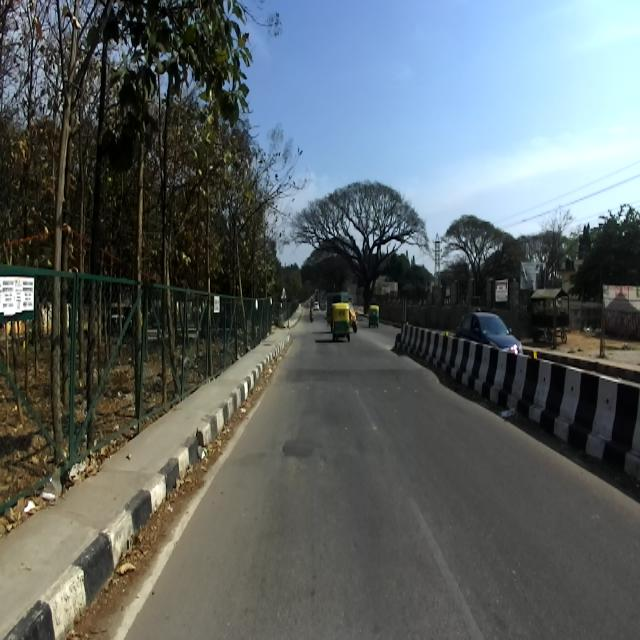auto ahead at: (326, 299, 354, 344)
